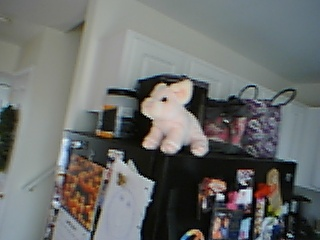piggy: (139, 78, 210, 159)
